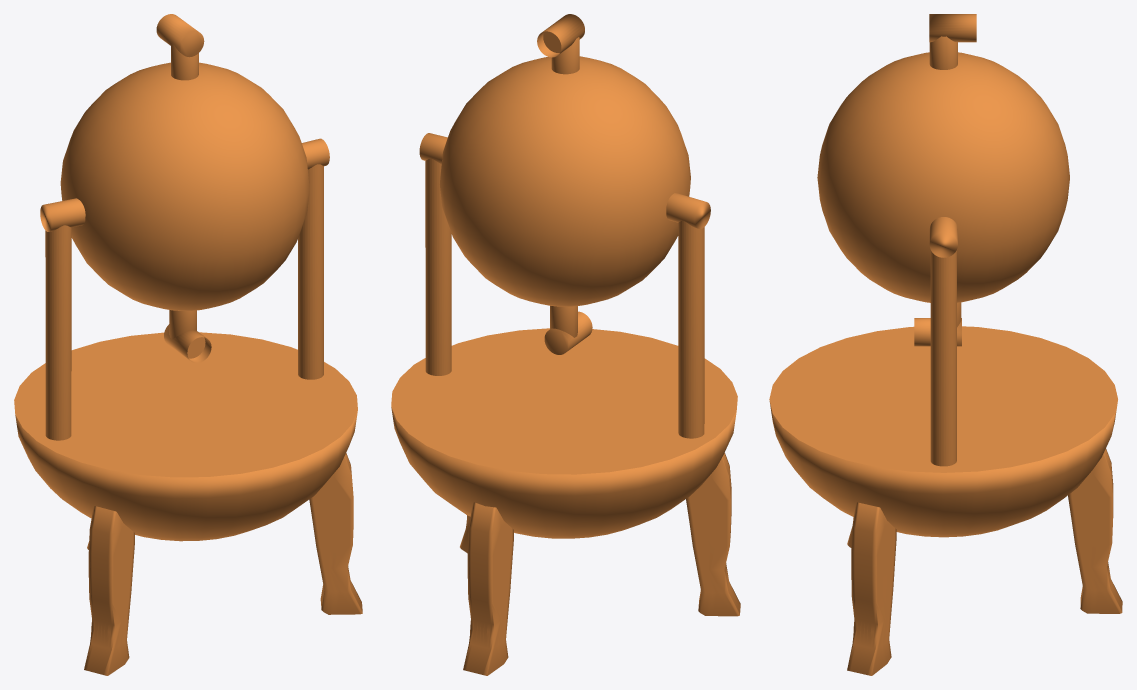
File: eolipile.gltf
The picture shows the model from 3 angles, left to right: view 1: azimuth 30°, elevation 25°; view 2: azimuth 150°, elevation 25°; view 3: azimuth 270°, elevation 25°; orthographic projection.
Parts seen in each view (by area): view 1: Sphere.001, Cylinder.004, Cube.001, Cylinder.002, Cube, Cylinder, Cylinder.003, Cylinder.001; view 2: Sphere.001, Cylinder.004, Cube.003, Cylinder.002, Cube.001, Cylinder, Cylinder.003, Cylinder.001; view 3: Sphere.001, Cylinder.004, Cube, Cylinder, Cube.003, Cylinder.001.
Boxes of the visible parts, left/top/right/bottom form: Sphere.001: left=14, top=332, right=357, bottom=541; Cylinder.004: left=60, top=14, right=309, bottom=362; Cube.001: left=84, top=506, right=134, bottom=675; Cylinder.002: left=45, top=225, right=71, bottom=440; Cube: left=309, top=453, right=362, bottom=614; Cylinder: left=298, top=164, right=323, bottom=379; Cylinder.003: left=40, top=198, right=85, bottom=231; Cylinder.001: left=302, top=138, right=329, bottom=169; Sphere.001: left=391, top=328, right=737, bottom=538; Cylinder.004: left=440, top=14, right=690, bottom=354; Cube.003: left=463, top=502, right=513, bottom=675; Cylinder.002: left=678, top=221, right=704, bottom=438; Cube.001: left=686, top=453, right=740, bottom=616; Cylinder: left=425, top=159, right=451, bottom=375; Cylinder.003: left=666, top=193, right=710, bottom=228; Cylinder.001: left=419, top=133, right=447, bottom=163; Sphere.001: left=769, top=326, right=1117, bottom=537; Cylinder.004: left=817, top=14, right=1069, bottom=346; Cube: left=847, top=502, right=896, bottom=675; Cylinder: left=930, top=250, right=956, bottom=466; Cube.003: left=1068, top=449, right=1122, bottom=613; Cylinder.001: left=929, top=217, right=957, bottom=257.
Size of the model in its own units: 2.2 by 4.12 by 2.23.
